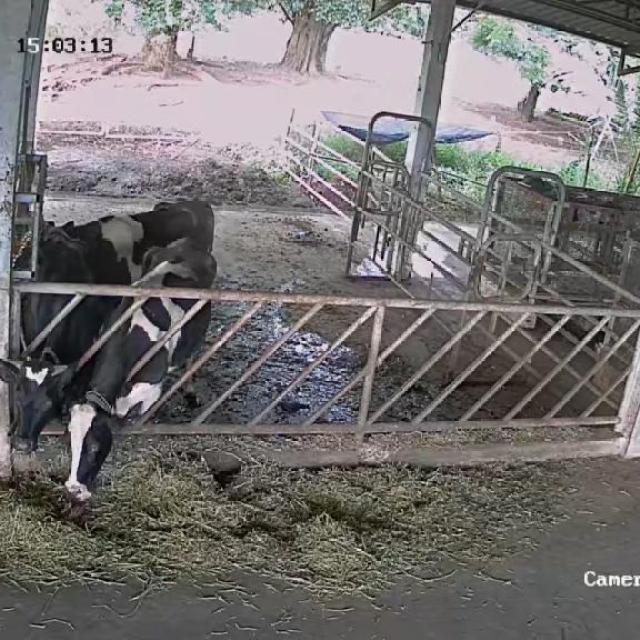feeding: (67, 233, 221, 507), (0, 236, 103, 460)
standing: (13, 192, 217, 316)
